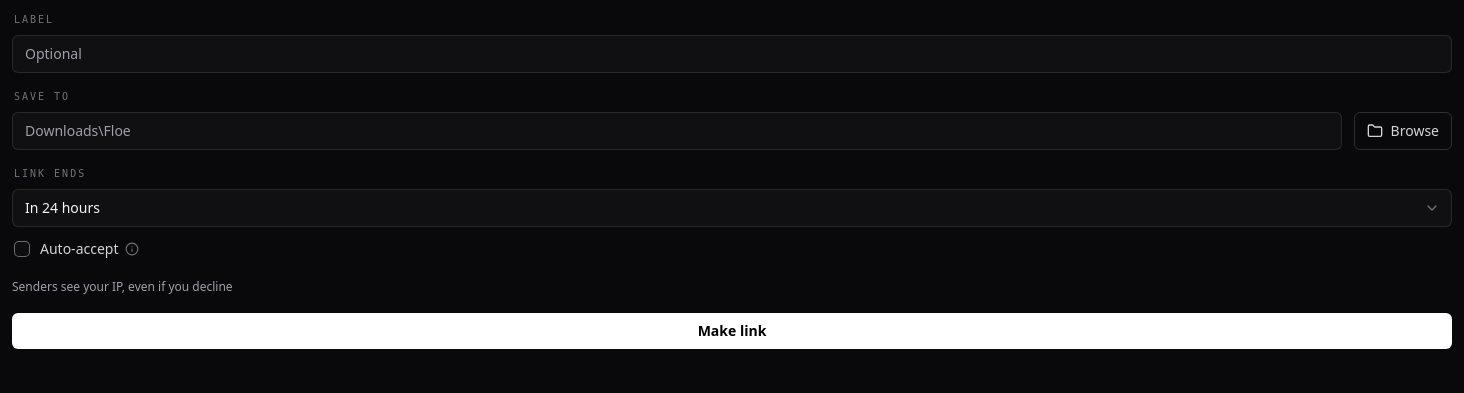
Test: Auto-accept (D-173, D-174) › the check is one label: a click on its word turns it on, and its box fills white with a check
The width and height of the screenshot is (1464, 393).
Expected: the checkbox labelled "Auto-accept" is shown, [14, 237, 118, 261]
Click the text "Auto-accept" at point(79, 249), box [40, 239, 118, 259]
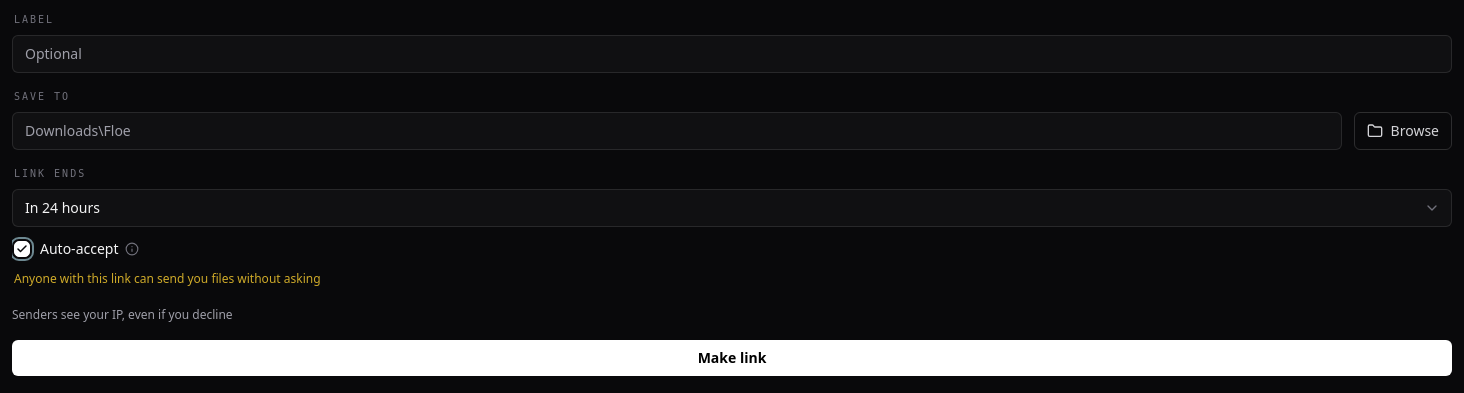
Now the checkbox labelled "Auto-accept" is checked, box [14, 237, 118, 261]
Now the icon next to "Auto-accept" is shown, box [16, 243, 28, 255]
